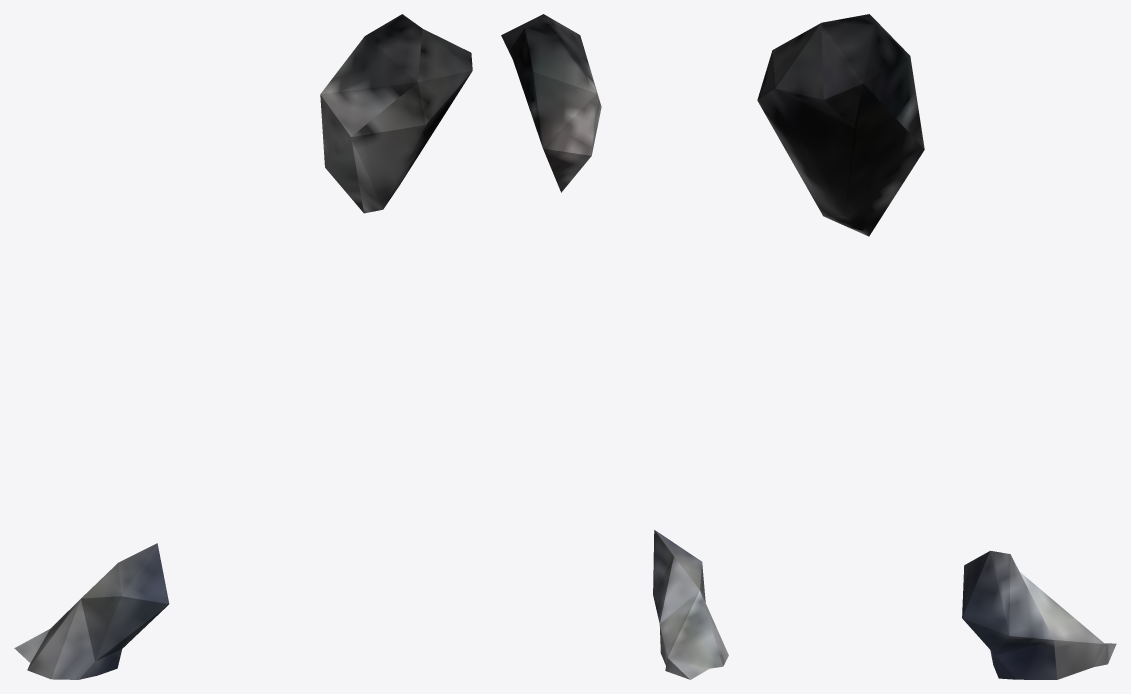
3 views of the same model, side by side, from view 1: azimuth 30°, elevation 25°; view 2: azimuth 150°, elevation 25°; view 3: azimuth 270°, elevation 25° (orthographic). The views are drawn at different scales.
Bounding box in the file's own units: 0.1203 × 0.2058 × 0.0838.
Materials: 1 (1 with a texture image).
